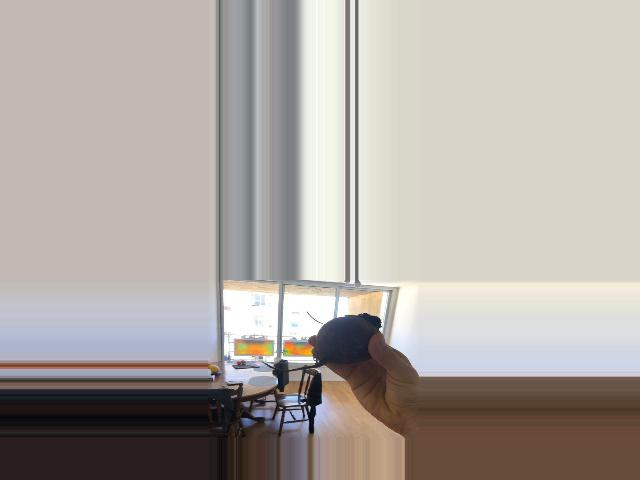beet: (262, 312, 380, 371)
